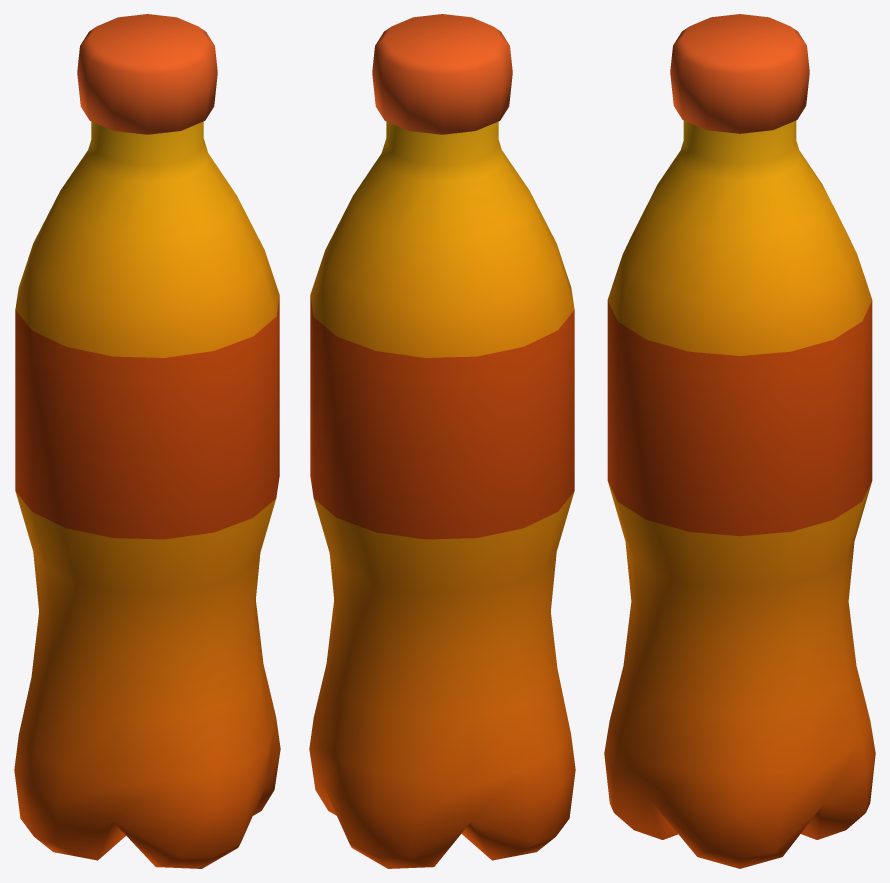
Rendered from bottle_002.fbx.
3 renders of one model, left to right at view 1: azimuth 30°, elevation 25°; view 2: azimuth 150°, elevation 25°; view 3: azimuth 270°, elevation 25°, orthographic.
Parts seen in each view (by area): view 1: bottle_002; view 2: bottle_002; view 3: bottle_002.
Part boxes in pixels (bbox=[...]): bottle_002: bbox=[14, 14, 280, 868]; bottle_002: bbox=[309, 14, 575, 868]; bottle_002: bbox=[604, 14, 875, 868].
Size of the model in its own units: 6.14 by 6.14 by 19.86.
